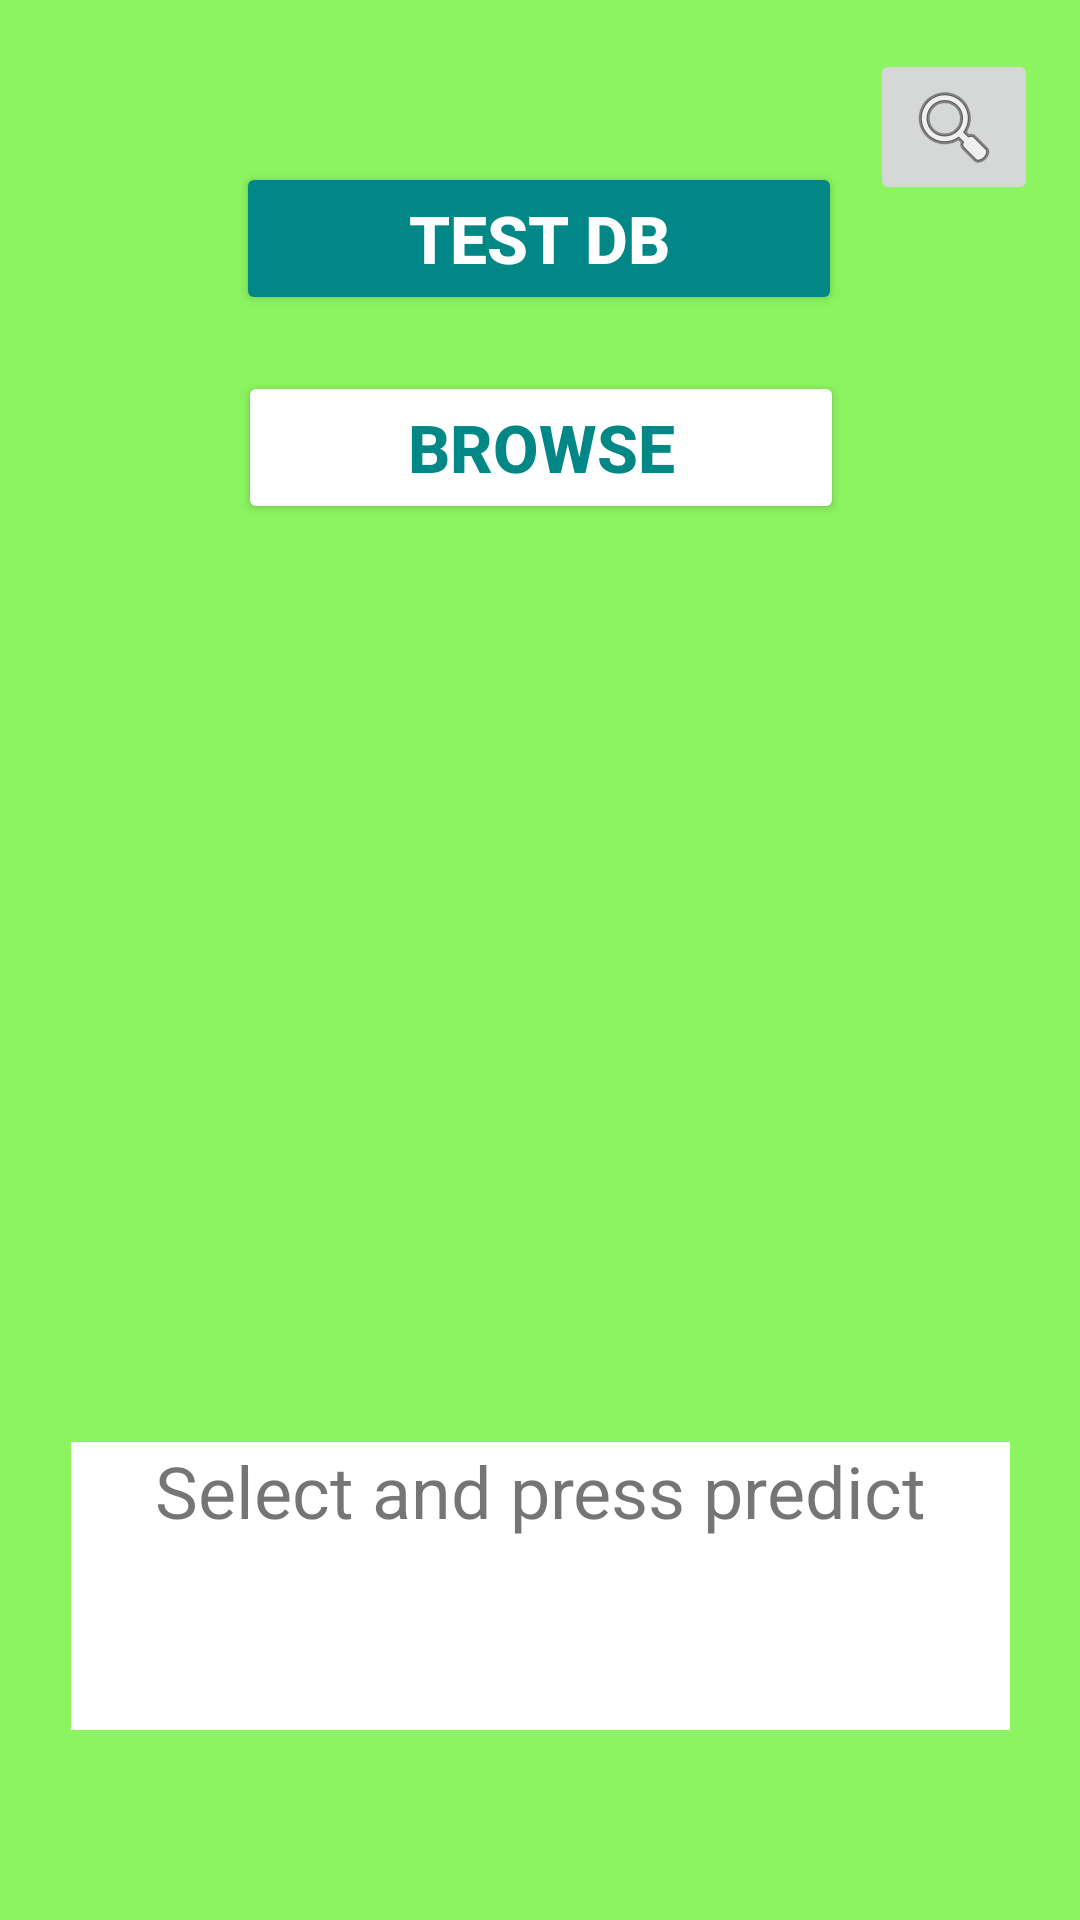

Screen size 1080*1920. Icon name, then its box in pixels as (x1, y1, x2, y2):
search: (882, 67, 1026, 187)
